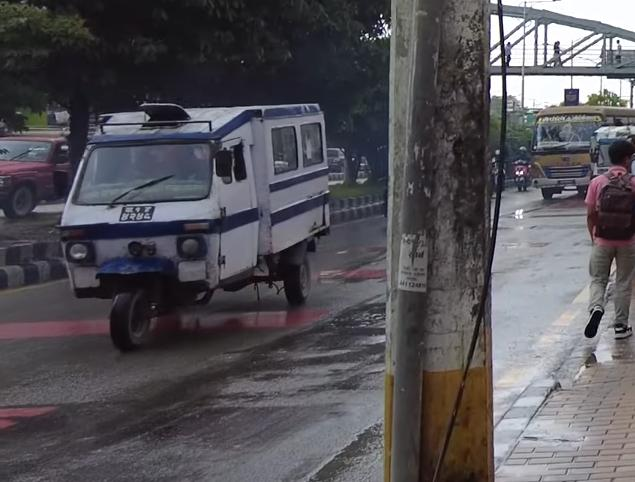bus: (530, 103, 635, 197)
tempo: (63, 89, 337, 351)
